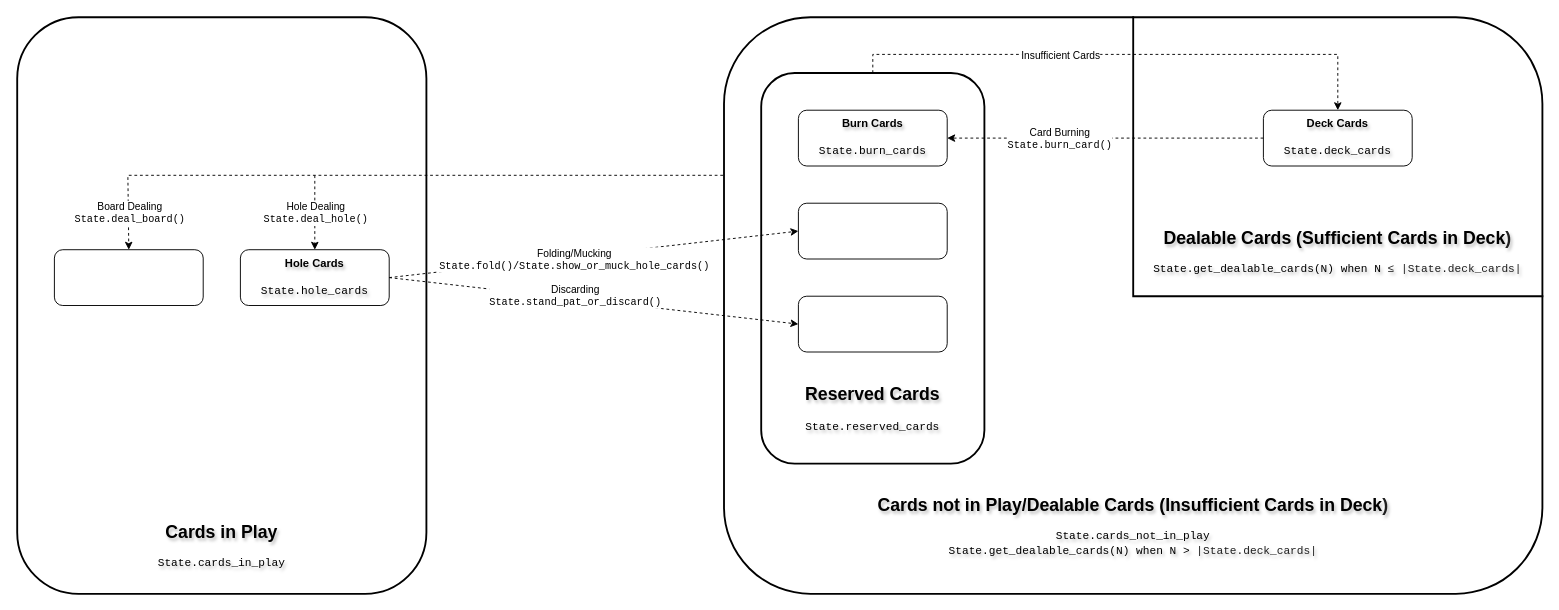
Image size: 1559x610. Some labels were removed from this diagram. The shapes that lost their labels are listed below. From the top down, each one's centre as x and y in pixels, then its label:
At point (872, 230): "Mucked Cards State.mucked_cards".
At point (128, 277): "Board Cards State.board_cards".
At point (872, 323): "Discarded Cards State.discarded_cards".
